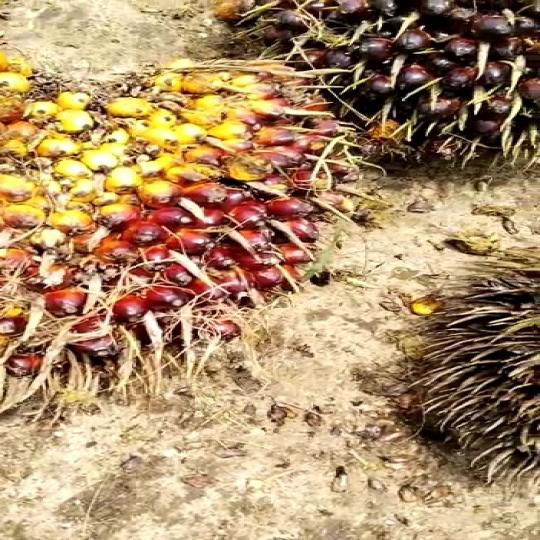masak: (0, 39, 356, 426)
